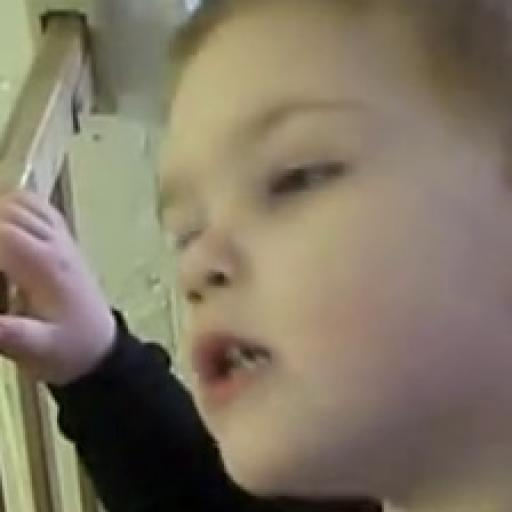Autism: (132, 0, 512, 511)
